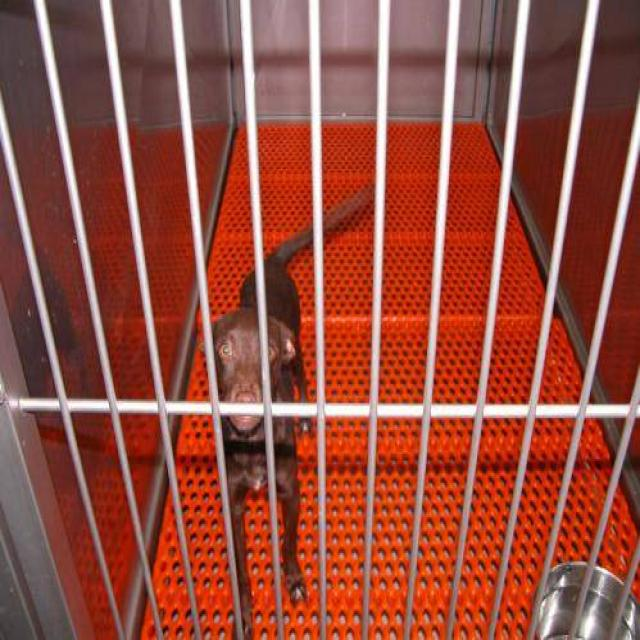dog: (196, 179, 376, 635)
